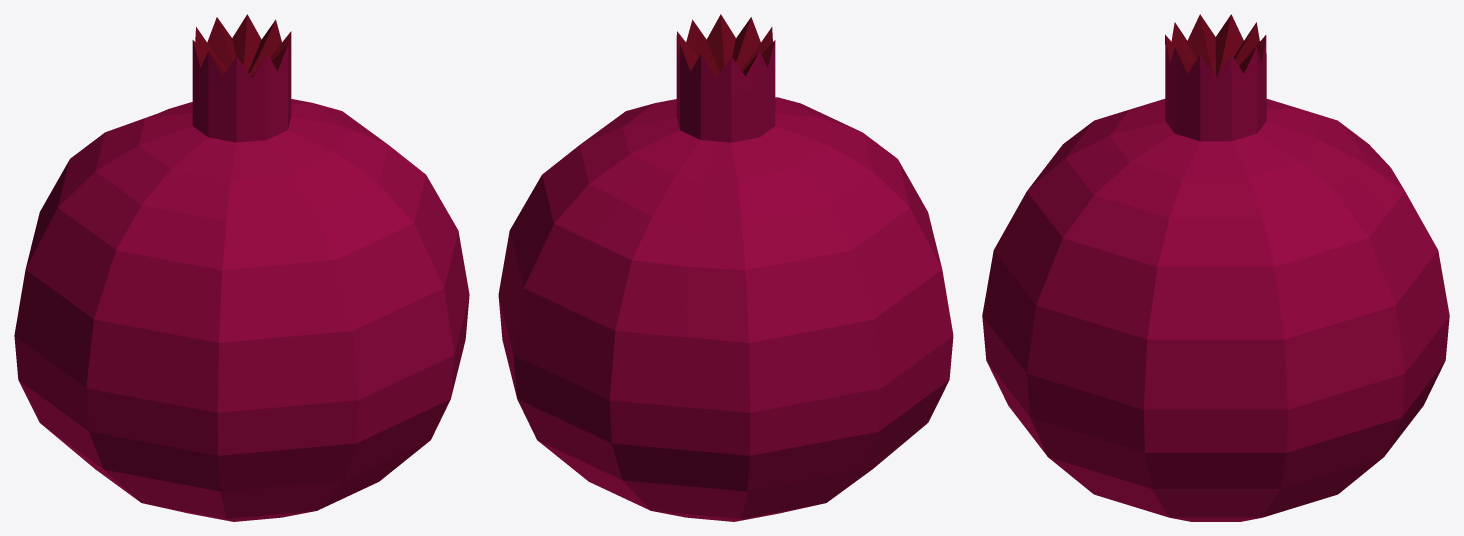
The model's file is GamesE_E03_granada.fbx.
3 renders of one model, left to right at view 1: azimuth 30°, elevation 25°; view 2: azimuth 150°, elevation 25°; view 3: azimuth 270°, elevation 25°, orthographic.
Parts seen in each view (by area): view 1: Sphere; view 2: Sphere; view 3: Sphere.
Part boxes in pixels (x1,y1,x2,y2): Sphere: (14, 14, 469, 521); Sphere: (498, 14, 953, 521); Sphere: (982, 14, 1449, 521).
Bounding box in the file's own units: 173 × 198 × 182.
